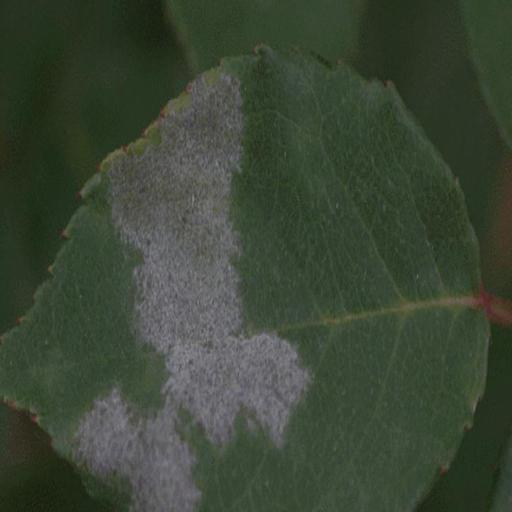powdery_mildew: (0, 45, 488, 512)
